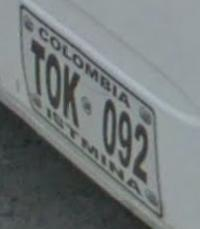placas: (18, 2, 166, 222)
